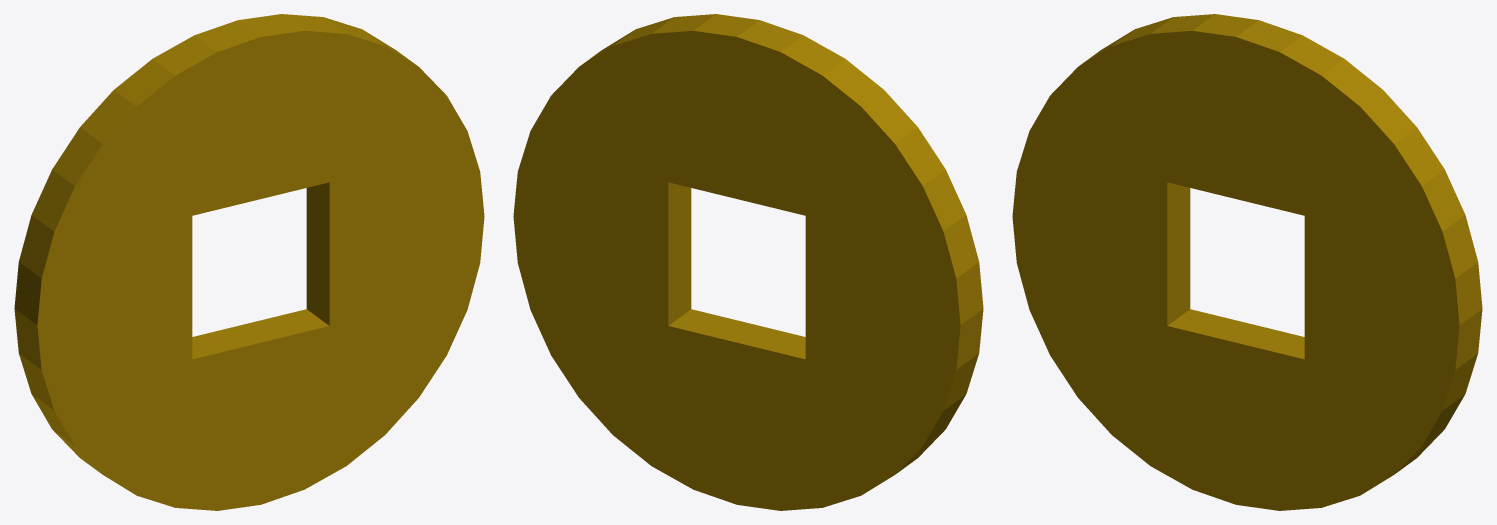
File: 経験値.fbx
3 views of the same model, side by side, from view 1: azimuth 30°, elevation 25°; view 2: azimuth 150°, elevation 25°; view 3: azimuth 330°, elevation 25° (orthographic).
Parts seen in each view (by area): view 1: 円柱; view 2: 円柱; view 3: 円柱.
Part boxes in pixels (left/top/right/bottom): 円柱: left=14, top=14, right=484, bottom=510; 円柱: left=513, top=14, right=983, bottom=510; 円柱: left=1012, top=14, right=1482, bottom=510.
Bounding box in the file's own units: 390 × 390 × 34.65.
